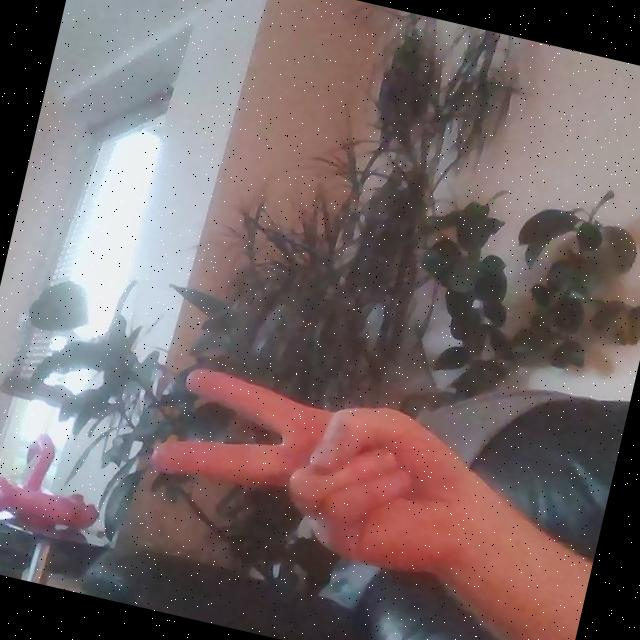scissors: (130, 352, 492, 598)
